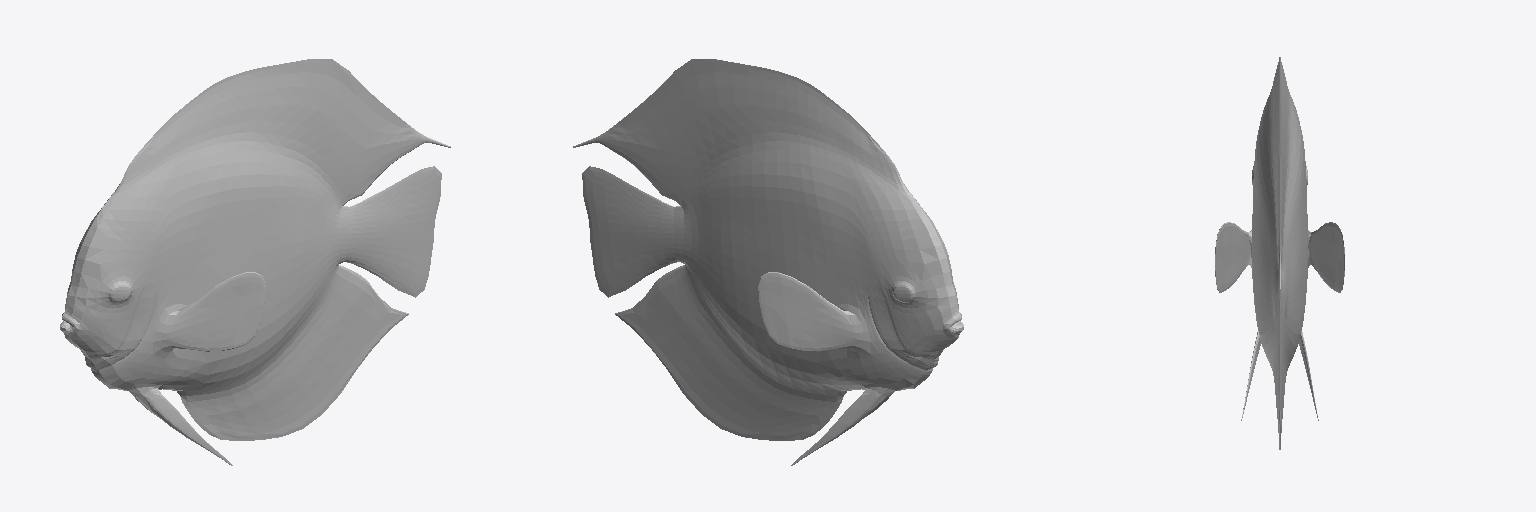
File: discus_fish.obj
3 views of the same model, side by side, from view 1: azimuth 30°, elevation 25°; view 2: azimuth 150°, elevation 25°; view 3: azimuth 270°, elevation 25° (orthographic).
Parts seen in each view (by area): view 1: discus_fish; view 2: discus_fish; view 3: discus_fish.
Part boxes in pixels (x1,y1,x2,y2): discus_fish: (60,59,450,465); discus_fish: (573,59,963,465); discus_fish: (1215,57,1344,449).
Size of the model in its own units: 21.58 by 19.78 by 6.22.